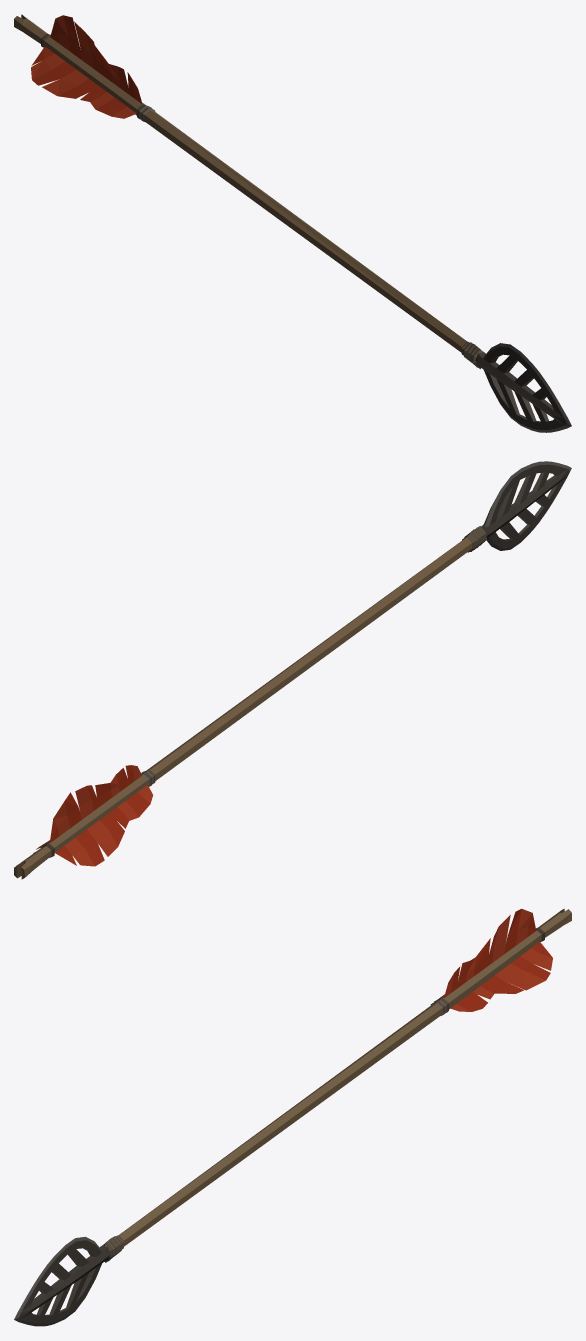
Rendered from leafTipArrow.glb.
The picture shows the model from 3 angles, top to bottom: view 1: azimuth 30°, elevation 25°; view 2: azimuth 150°, elevation 25°; view 3: azimuth 330°, elevation 25°; orthographic projection.
Parts seen in each view (by area): view 1: leafTipArrow; view 2: leafTipArrow; view 3: leafTipArrow.
Boxes of the visible parts, <box> form: leafTipArrow: <box>14,14,571,432</box>; leafTipArrow: <box>14,461,571,879</box>; leafTipArrow: <box>14,908,571,1326</box>.
Bounding box in the file's own units: 0.0696 × 0.0811 × 1.03.
